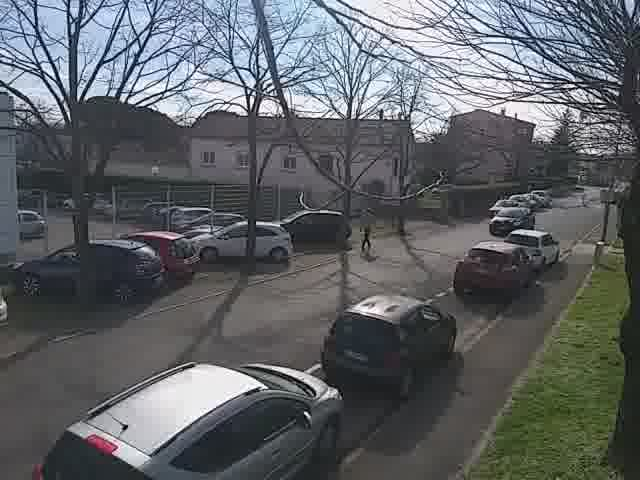persona: (357, 201, 378, 255)
